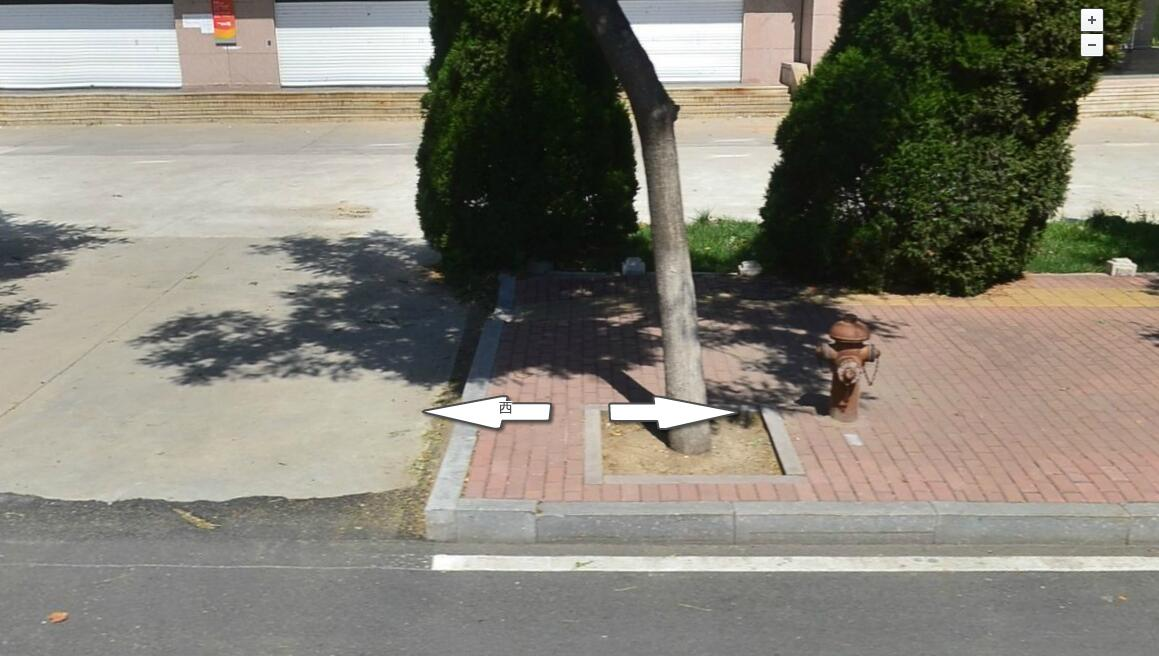side: (537, 500, 745, 547), (732, 502, 939, 548), (932, 504, 1134, 548)
